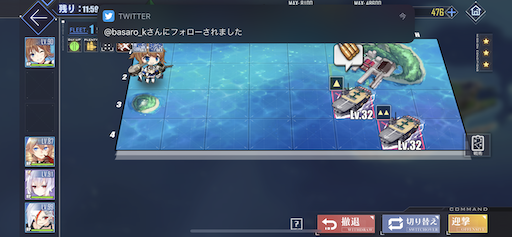lv1: (328, 75, 374, 118)
lv2: (373, 100, 424, 149)
